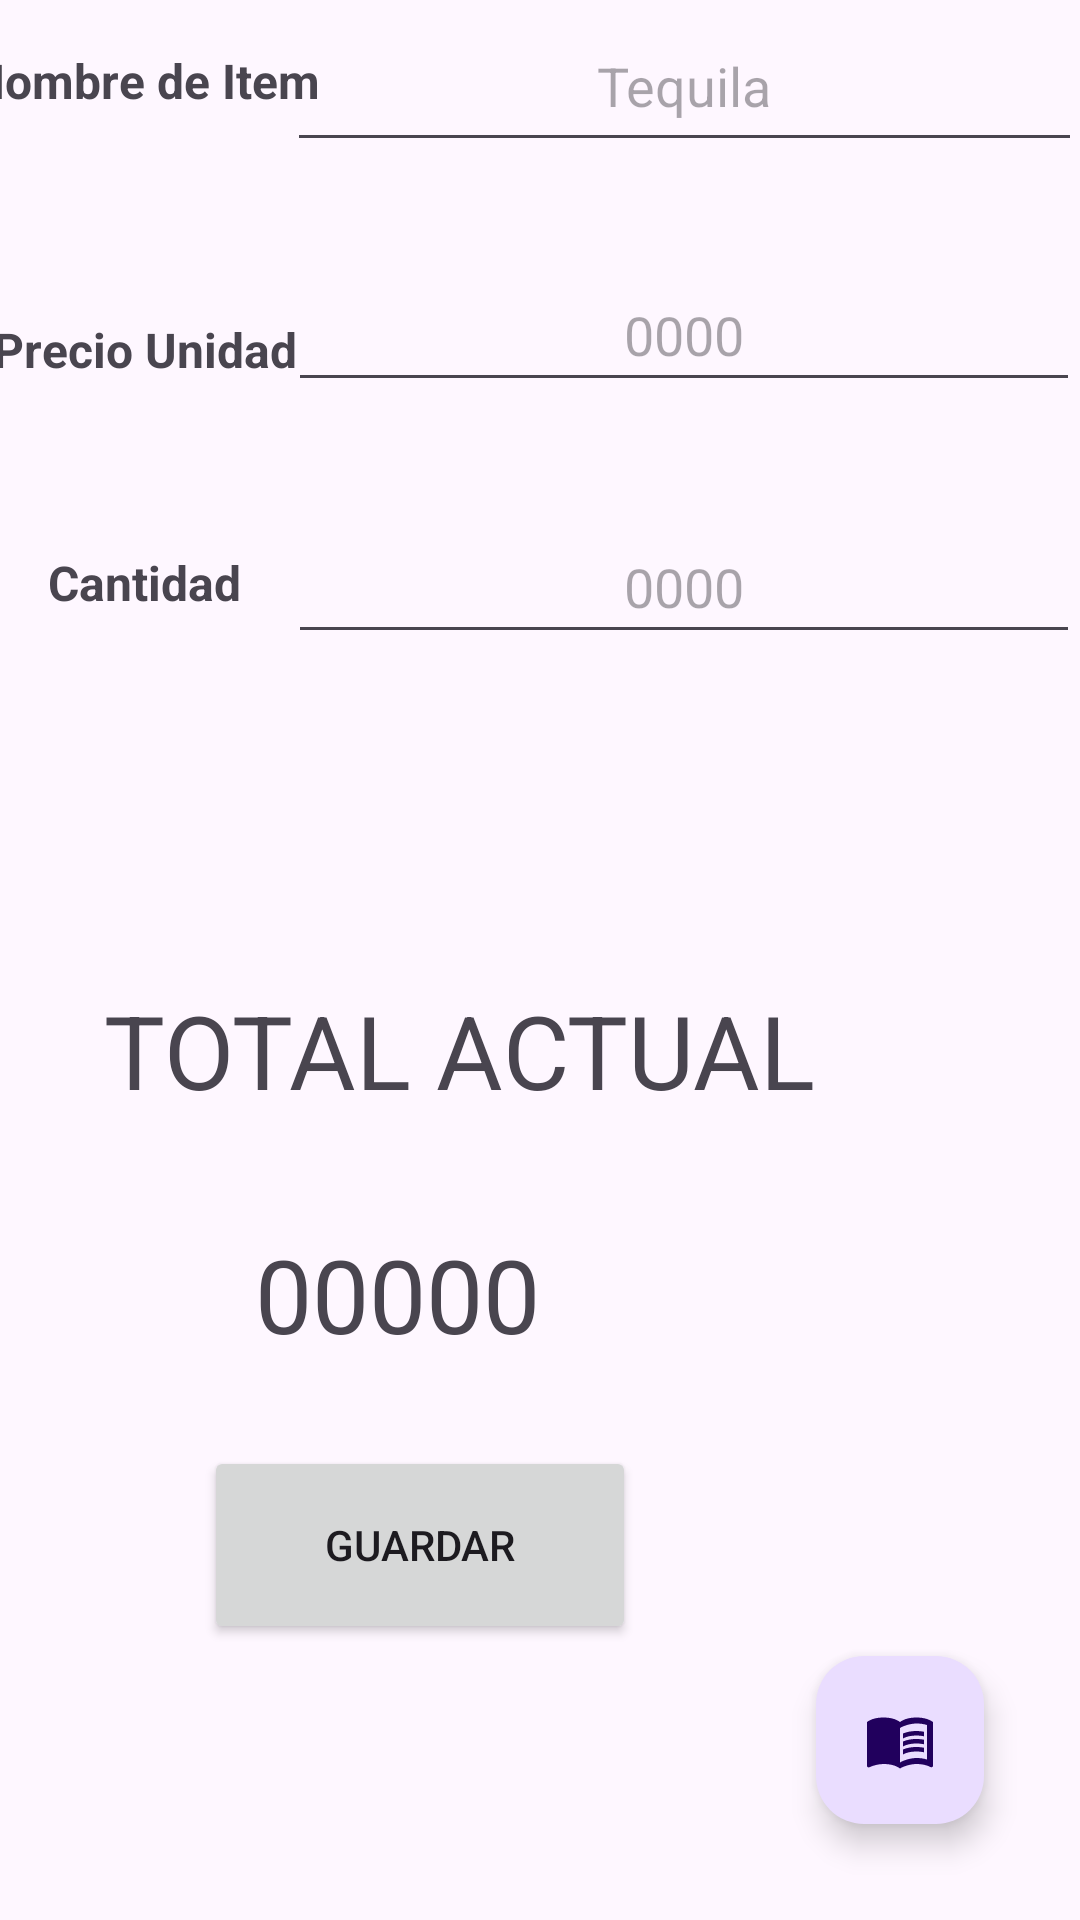

Icon click points for this 1080px×1920px phone screenshot, format (x=x, y=y):
ir a boleta: (x=900, y=1740)
